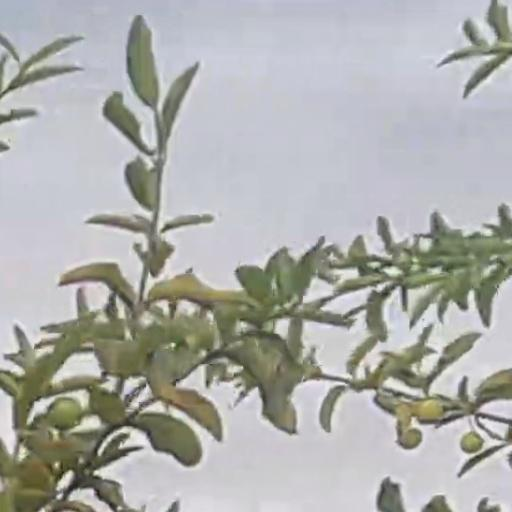acerola: (51, 398, 79, 426)
